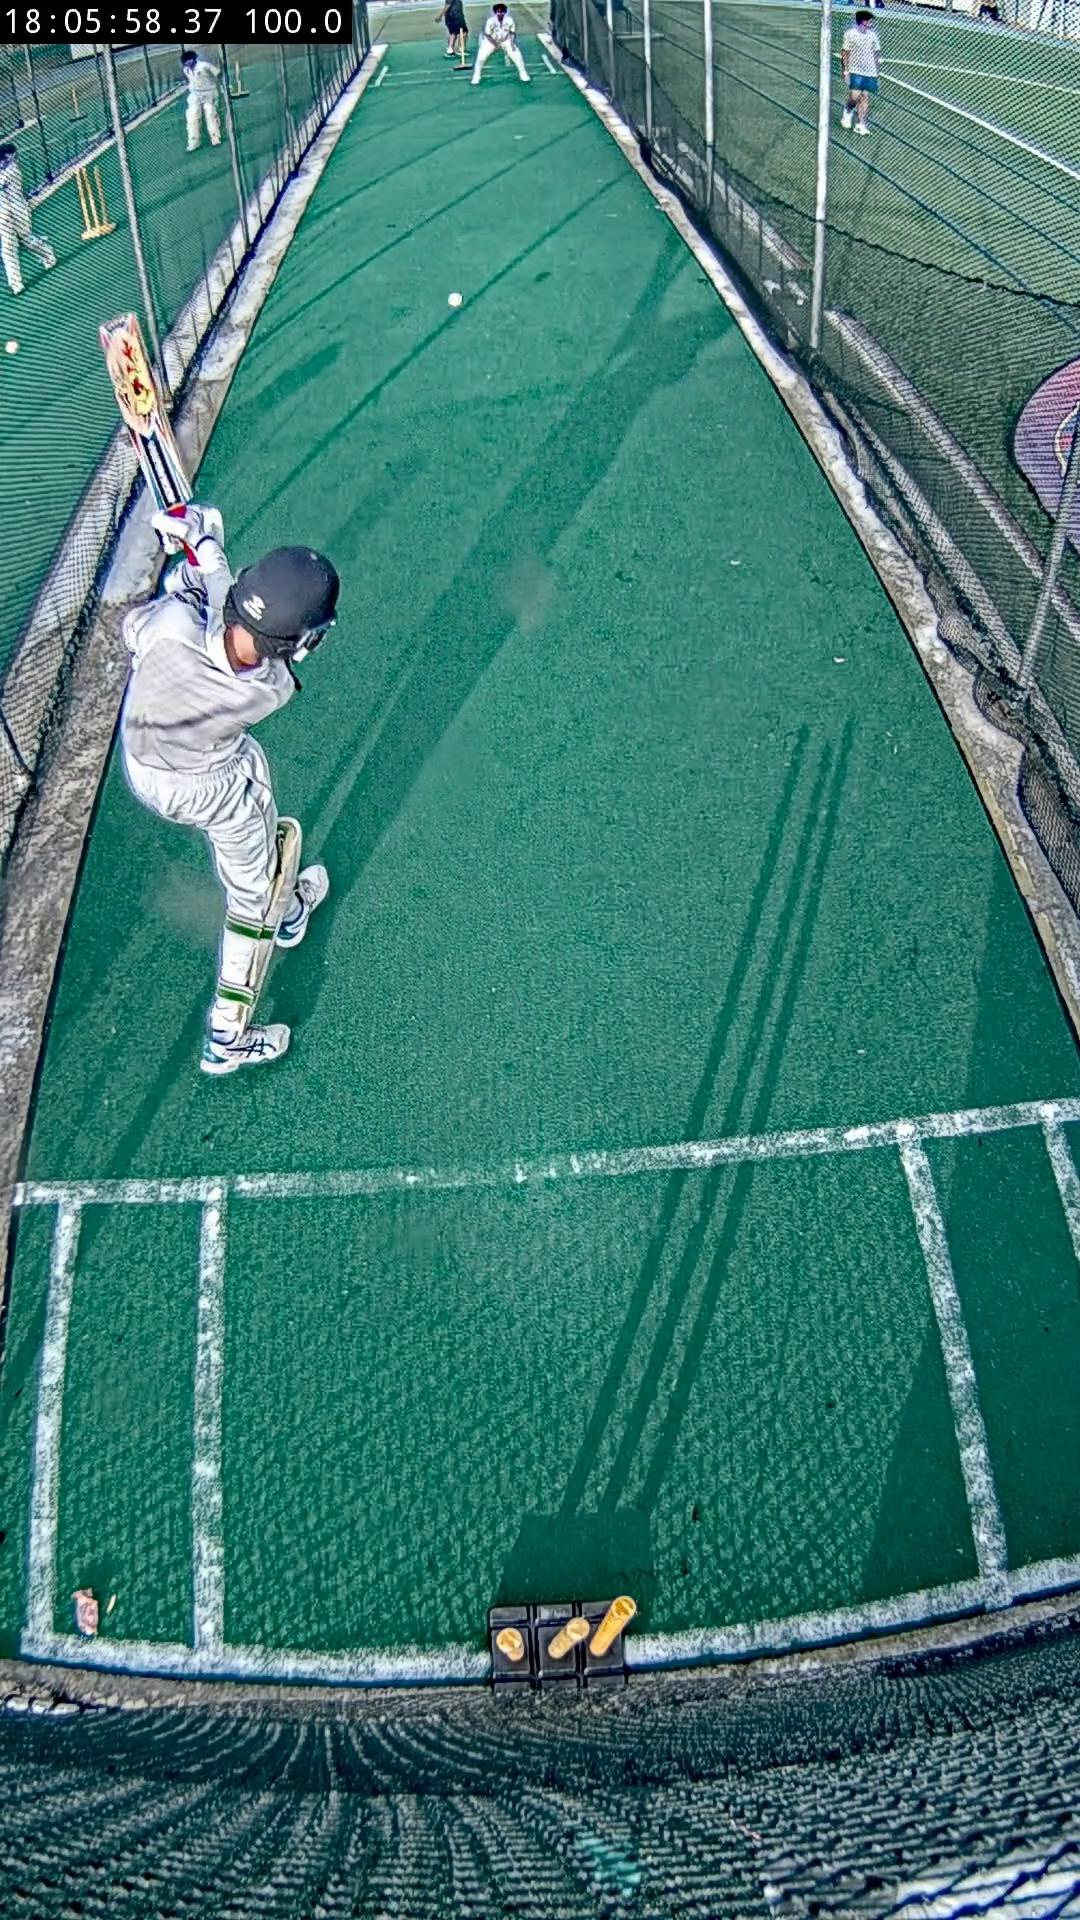ball: (446, 293, 465, 307)
bat: (102, 311, 191, 510)
gloves: (150, 502, 225, 555), (165, 566, 206, 609)
helmet: (225, 547, 338, 659)
pads: (248, 818, 303, 1010)
stumps: (488, 1594, 637, 1688)
